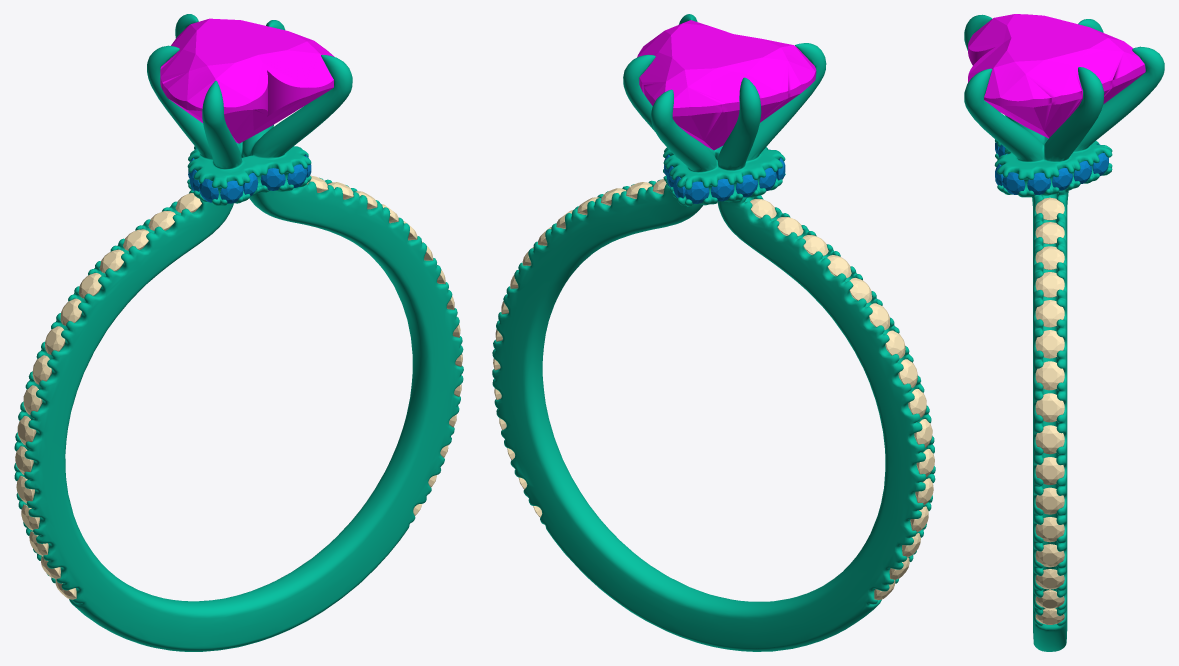
The model's file is BE1D305_HT_200ct_RENDER.glb.
3 views of the same model, side by side, from view 1: azimuth 30°, elevation 25°; view 2: azimuth 150°, elevation 25°; view 3: azimuth 270°, elevation 25° (orthographic). The views are drawn at different scales.
Visible parts, largest first — view 1: Metal 01, CS_Diamond_Heart; view 2: Metal 01, CS_Diamond_Heart; view 3: Metal 01, CS_Diamond_Heart, Diamond_Round_Gem_SH.023, Diamond_Round_Gem_SH.022, Diamond_Round_Gem_SH.024, Diamond_Round_Gem_SH.021, Diamond_Round_Gem_SH.025, Diamond_Round_Gem_SH.020, Diamond_Round_Gem_SH.026, Diamond_Round_Gem_SH.019, Diamond_Round_Gem_SH.027, Diamond_Round_Gem_SH.018 (+9 smaller).
Part boxes in pixels (x1,y1,x2,y2): Metal 01: [14, 14, 463, 651]; CS_Diamond_Heart: [160, 18, 334, 143]; Metal 01: [492, 14, 935, 651]; CS_Diamond_Heart: [637, 20, 816, 150]; Metal 01: [964, 14, 1164, 651]; CS_Diamond_Heart: [968, 14, 1145, 138]; Diamond_Round_Gem_SH.023: [1035, 393, 1064, 422]; Diamond_Round_Gem_SH.022: [1035, 361, 1064, 390]; Diamond_Round_Gem_SH.024: [1035, 425, 1064, 454]; Diamond_Round_Gem_SH.021: [1035, 330, 1064, 358]; Diamond_Round_Gem_SH.025: [1035, 457, 1064, 485]; Diamond_Round_Gem_SH.020: [1035, 300, 1064, 327]; Diamond_Round_Gem_SH.026: [1035, 487, 1064, 514]; Diamond_Round_Gem_SH.019: [1035, 272, 1064, 297]; Diamond_Round_Gem_SH.027: [1035, 517, 1064, 542]; Diamond_Round_Gem_SH.018: [1035, 246, 1064, 269].
Size of the model in its own units: 20.45 by 26.81 by 8.25.
